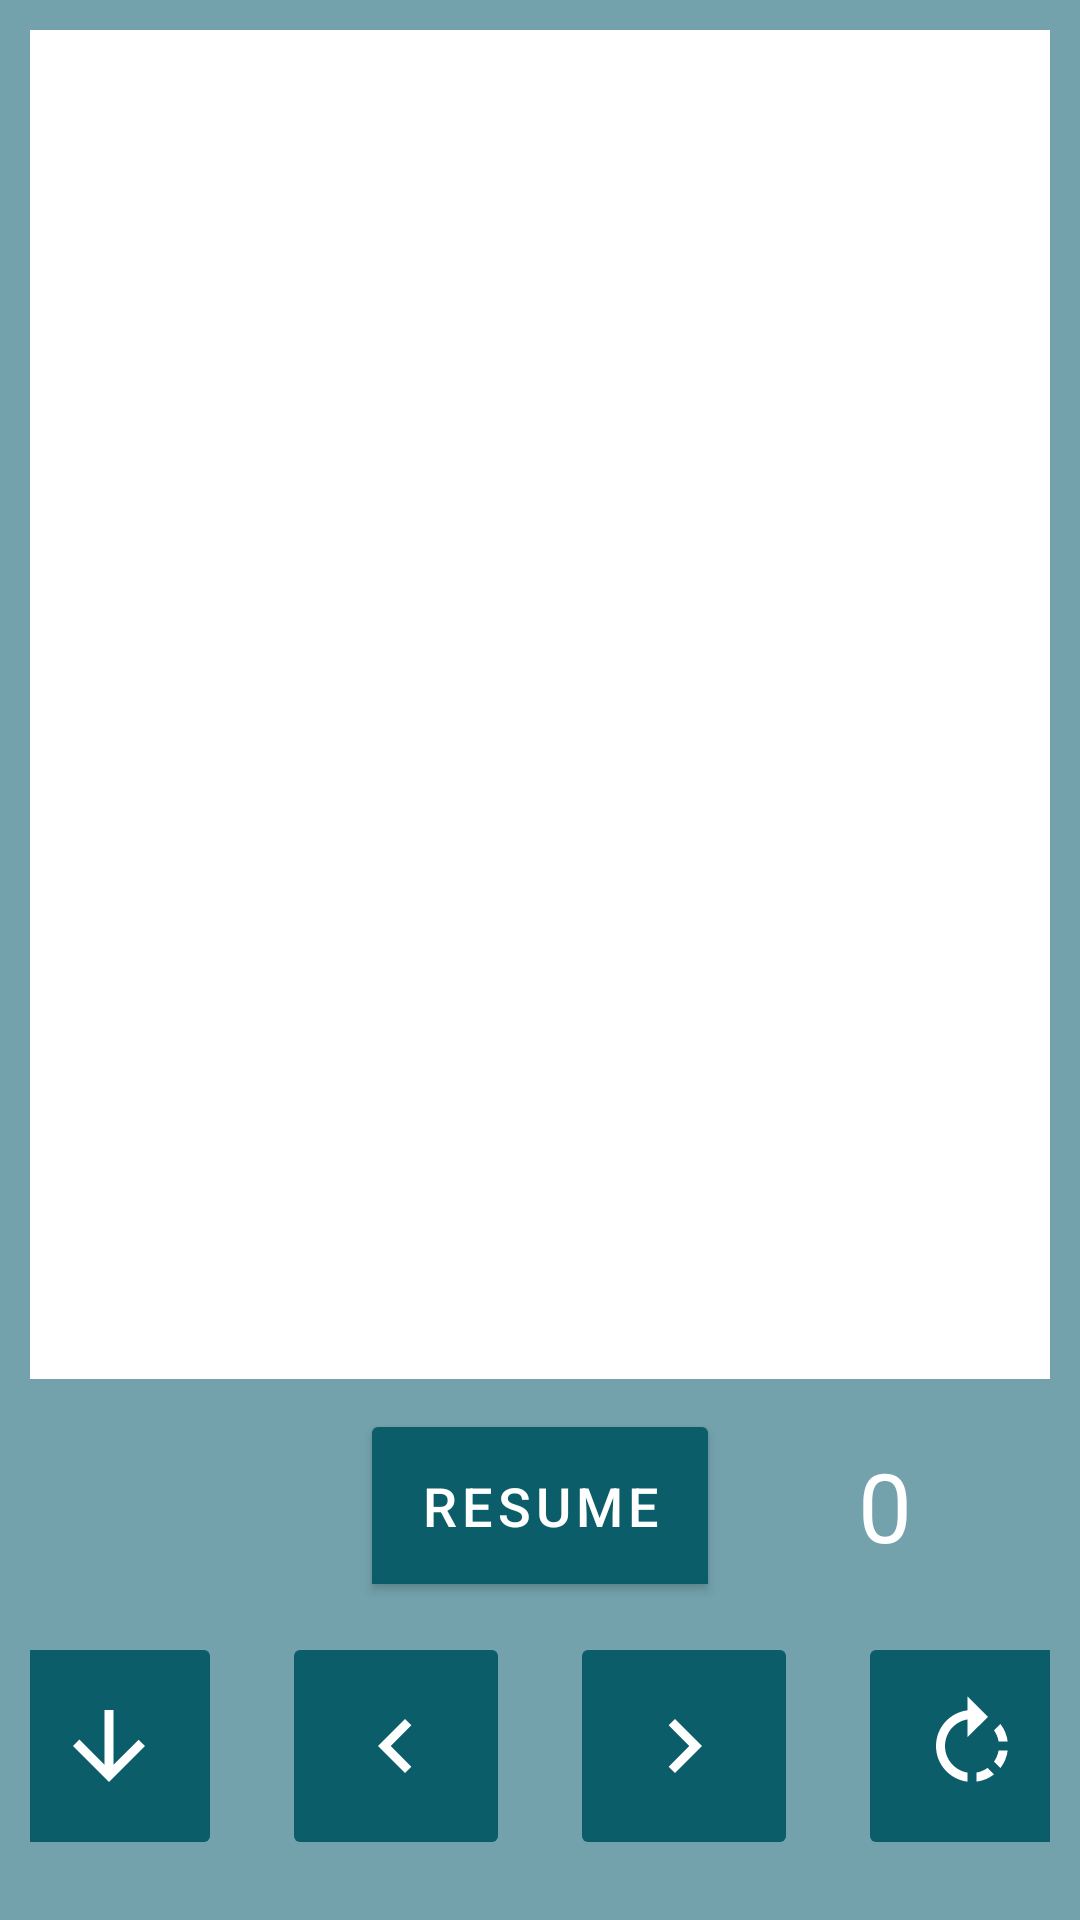

Point at icon controls on the screen. Image size 1080w x 1920h, points as point (x, y).
chevron left: point (396, 1746)
chevron right: point (684, 1746)
